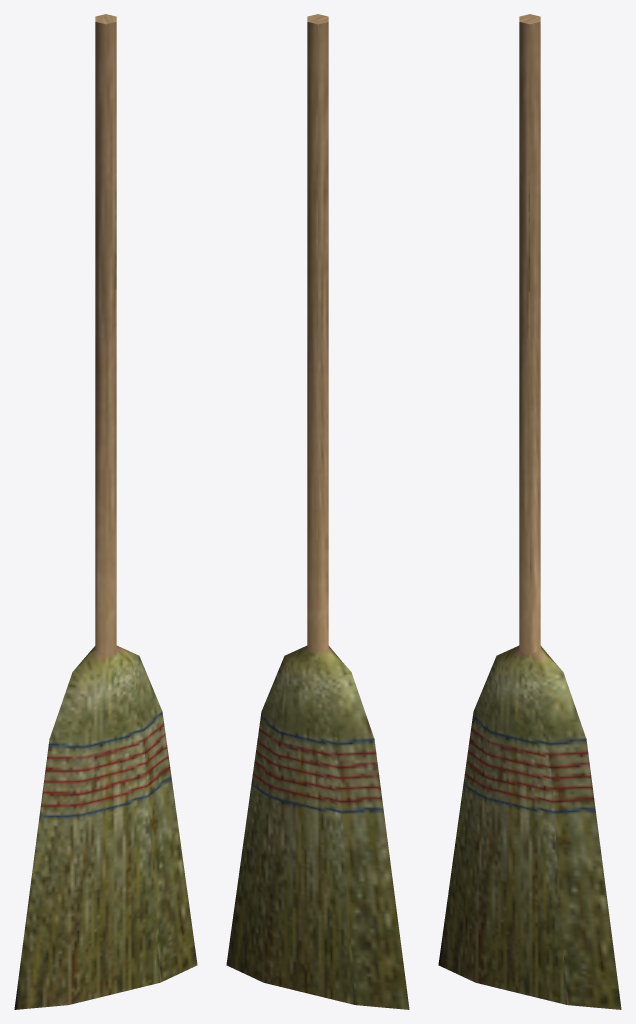
File: Broom_02.glb
The picture shows the model from 3 angles, left to right: view 1: azimuth 30°, elevation 25°; view 2: azimuth 150°, elevation 25°; view 3: azimuth 330°, elevation 25°; orthographic projection.
Parts seen in each view (by area): view 1: Broom_02; view 2: Broom_02; view 3: Broom_02.
Part boxes in pixels (box(x1,y1,x2,y2)): Broom_02: box(14, 14, 197, 1009); Broom_02: box(226, 14, 409, 1009); Broom_02: box(438, 14, 621, 1009).
Bounding box in the file's own units: 0.289 × 1.46 × 0.0491.
1 material, 1 textured.
